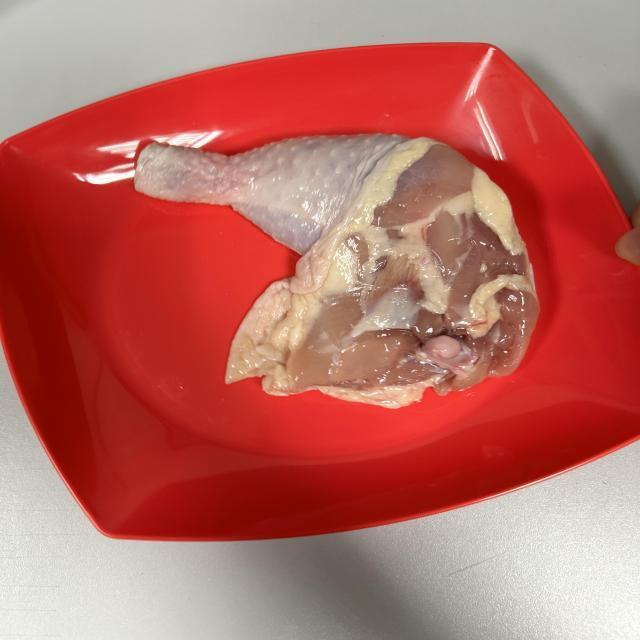quater: (116, 125, 532, 408)
